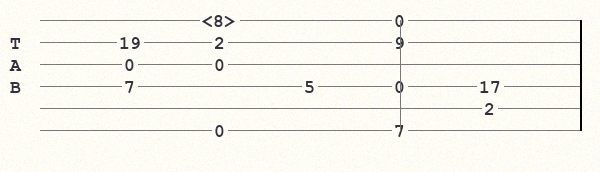0: (124, 56, 139, 72), (214, 56, 229, 72), (214, 122, 229, 138), (394, 78, 409, 94), (394, 12, 409, 28)
17: (479, 78, 505, 94)
19: (119, 34, 145, 50)
2: (214, 34, 229, 50), (484, 100, 499, 116)
5: (304, 78, 319, 94)
7: (124, 78, 139, 94), (394, 122, 409, 138)
9: (394, 34, 409, 50)
harmonic: (202, 12, 241, 28)
